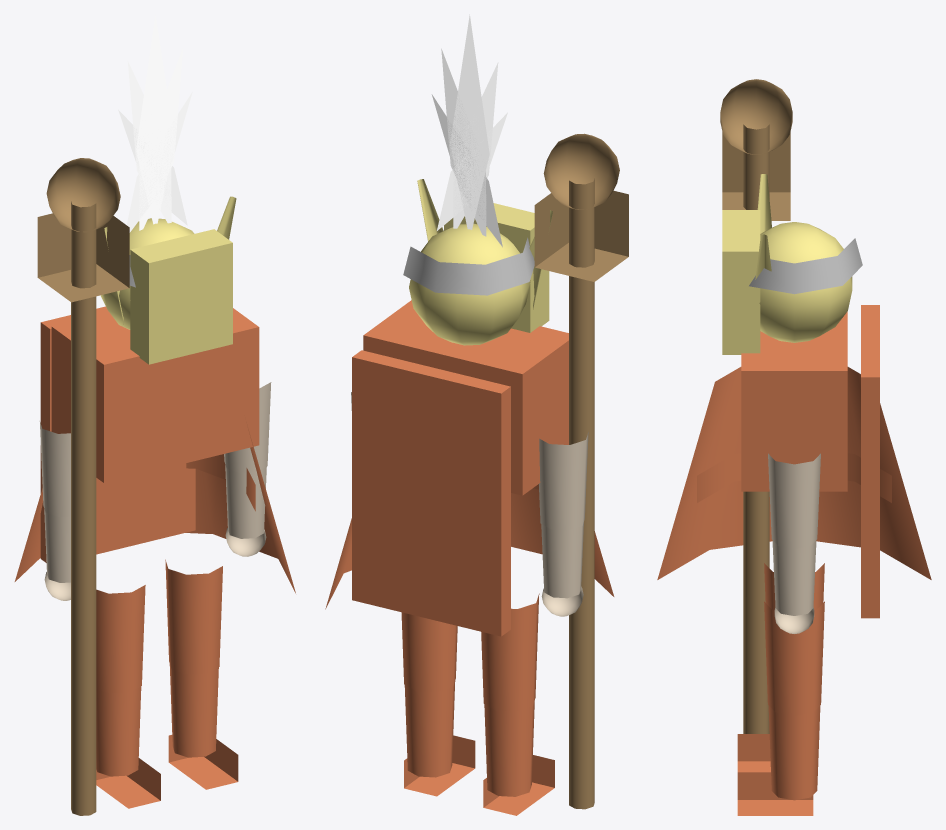
Rendered from shaman.gltf.
3 views of the same model, side by side, from view 1: azimuth 30°, elevation 25°; view 2: azimuth 150°, elevation 25°; view 3: azimuth 270°, elevation 25° (orthographic). The views are drawn at different scales.
Parts seen in each view (by area): view 1: Torso, Staff, Head, LegL, LegR, Headdress, ArmR, ArmL; view 2: Torso, Staff, Headdress, Head, LegR, LegL, ArmR; view 3: Torso, Staff, Head, LegL, ArmL, Headdress, LegR.
Boxes of the visible parts, <box> form: Torso: <box>14,306,295,593</box>; Staff: <box>37,158,129,815</box>; Head: <box>100,196,236,364</box>; LegL: <box>165,559,238,789</box>; LegR: <box>96,585,160,808</box>; Headdress: <box>118,14,192,287</box>; ArmR: <box>39,421,70,600</box>; ArmL: <box>224,382,271,556</box>; Torso: <box>325,300,614,636</box>; Staff: <box>534,133,628,809</box>; Headdress: <box>403,14,534,295</box>; Head: <box>409,179,552,345</box>; LegR: <box>481,593,554,815</box>; LegL: <box>401,612,475,796</box>; ArmR: <box>539,432,588,616</box>; Torso: <box>657,305,931,618</box>; Staff: <box>720,79,792,733</box>; Head: <box>722,174,852,354</box>; LegL: <box>737,601,824,815</box>; ArmL: <box>768,453,820,633</box>; Headdress: <box>749,238,862,294</box>; LegR: <box>737,563,824,772</box>.
Bounding box in the file's own units: 0.76 × 2.25 × 0.7228.
